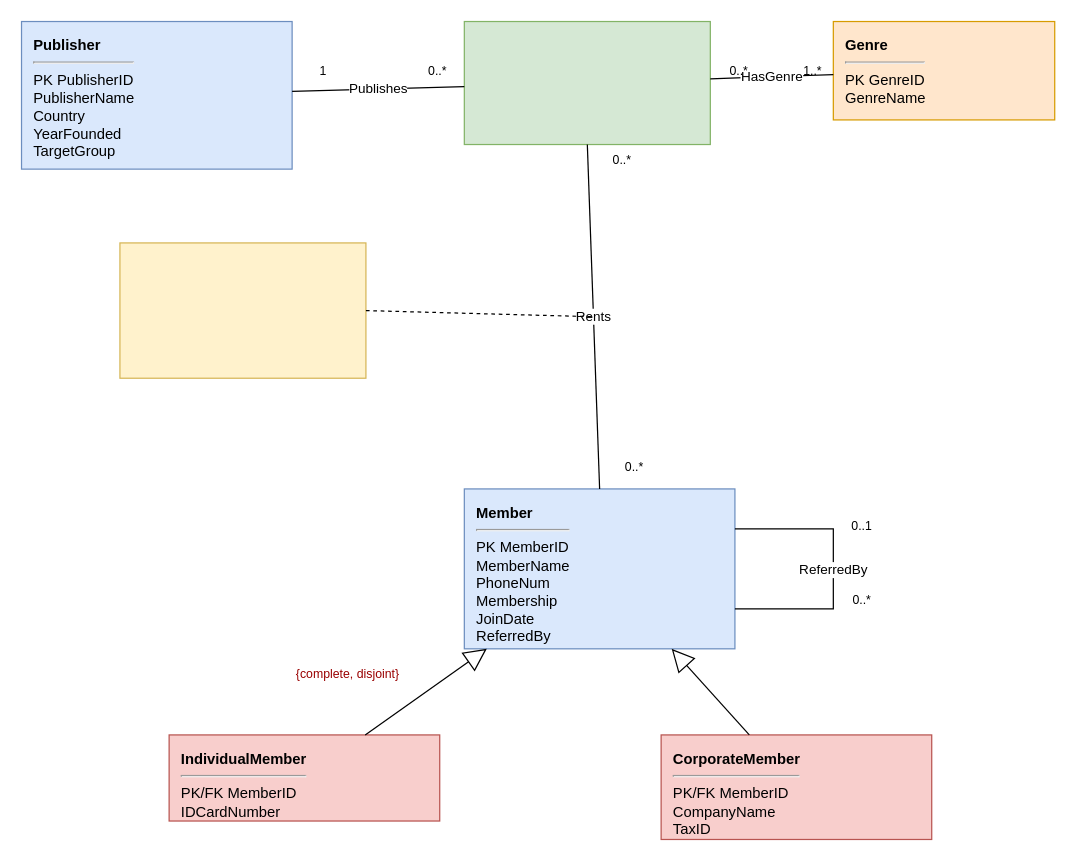
The diagram is 1076 pixels wide and 861 high, and some of its shapes have lost their labels. Each missing label, with the centre of its shape:
Game PK GameID GameName RentPrice FK PublisherID: the point at 586,82
Rental PK RentalID FK MemberID FK GameID DateRent DateGiveBack: the point at 242,310
